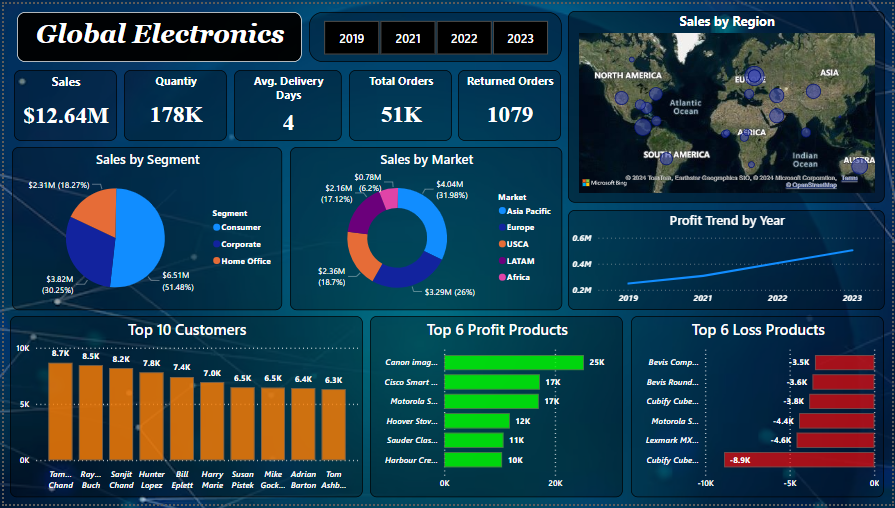

This screenshot's page, from the dashboard's own definition file:
{"tool":"powerbi","page":{"name":"Page 1","canvas":[1280,720],"ordinal":0},"visuals":[{"type":"slicer","title":"Year","fields":{"Values":["Orders.Year"]},"box":[439.2,11.5,364.3,72],"z":0},{"type":"card","title":"Returned Orders","fields":{"Values":["Returns.Returned Orders"]},"box":[654,95,148.3,102.2],"z":1000},{"type":"map","title":"Sales by Region","fields":{"Category":["Orders.Region"],"Size":["Orders.Sales"]},"box":[812.2,10.1,456.5,276.5],"z":2000},{"type":"barChart","title":"Top 6 Loss  Products","fields":{"Y":["Orders.Profit"],"Category":["Orders.Product Name"]},"box":[902.9,449.3,364.3,260.6],"z":3000},{"type":"donutChart","title":"Sales by Market","fields":{"Y":["Orders.Sales"],"Category":["Orders.Market"]},"box":[411.8,205.9,391.7,234.7],"z":4000},{"type":"card","title":"Avg. Delivery  Days","fields":{"Values":["Orders.Delivery days"]},"box":[331,95,155,102.2],"z":5000},{"type":"card","title":"Quantiy","fields":{"Values":["Orders.Quantity"]},"box":[172.8,95,148.3,102.2],"z":6000},{"type":"card","title":"Sales","fields":{"Values":["Orders.Sales"]},"box":[14.4,95,148,102.2],"z":7000},{"type":"barChart","title":"Top 6 Profit Products","fields":{"Y":["Orders.Profit"],"Category":["Orders.Product Name"]},"box":[527,449.3,364.3,260.6],"z":8000},{"type":"columnChart","title":"Top 10 Customers","fields":{"Category":["Orders.Customer Name"],"Y":["Orders.Profit"]},"box":[8.6,449.3,508.3,260.6],"z":9000},{"type":"pieChart","title":"Sales by Segment","fields":{"Y":["Orders.Sales"],"Category":["Orders.Segment"]},"box":[11.5,205.9,388.8,234.7],"z":10000},{"type":"card","title":"Total Orders","fields":{"Values":["Orders.Order ID"]},"box":[497,95,148.3,102.2],"z":11000},{"type":"textbox","box":[18.7,11.5,410.4,72],"z":12000},{"type":"lineChart","title":"Profit Trend by Year","fields":{"Category":["Orders.Year"],"Y":["Orders.Profit"]},"box":[812.2,296.6,456.5,144],"z":13000}]}

Visuals, with their boxes in screenshot pixels (x1, y1, x2, y2), scaled from the page's 1280x720 canvas onto the 895x508 screenshot:
"Year" slicer: {"x1": 307, "y1": 8, "x2": 562, "y2": 59}
"Returned Orders" card: {"x1": 457, "y1": 67, "x2": 561, "y2": 139}
"Sales by Region" map: {"x1": 568, "y1": 7, "x2": 887, "y2": 202}
"Top 6 Loss  Products" barChart: {"x1": 631, "y1": 317, "x2": 886, "y2": 501}
"Sales by Market" donutChart: {"x1": 288, "y1": 145, "x2": 562, "y2": 311}
"Avg. Delivery  Days" card: {"x1": 231, "y1": 67, "x2": 340, "y2": 139}
"Quantiy" card: {"x1": 121, "y1": 67, "x2": 225, "y2": 139}
"Sales" card: {"x1": 10, "y1": 67, "x2": 114, "y2": 139}
"Top 6 Profit Products" barChart: {"x1": 368, "y1": 317, "x2": 623, "y2": 501}
"Top 10 Customers" columnChart: {"x1": 6, "y1": 317, "x2": 361, "y2": 501}
"Sales by Segment" pieChart: {"x1": 8, "y1": 145, "x2": 280, "y2": 311}
"Total Orders" card: {"x1": 348, "y1": 67, "x2": 451, "y2": 139}
textbox: {"x1": 13, "y1": 8, "x2": 300, "y2": 59}
"Profit Trend by Year" lineChart: {"x1": 568, "y1": 209, "x2": 887, "y2": 311}
